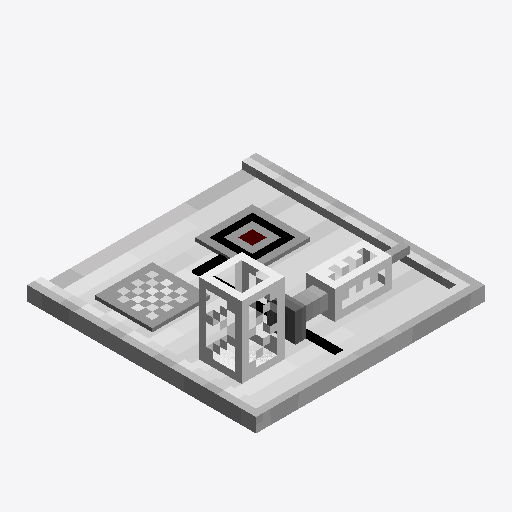
Isometric view (azimuth 45°, elevation 35.3°) of a Minecraft model made of 13 cuboids, textured from the same repository.
Parts seen in each view (by area): element 13, element 4, element 12, element 11, element 10, element 1, element 6, element 5, element 9, element 8.
Part boxes in pixels (left/top/right/bottom): element 13: left=27, top=169, right=484, bottom=432; element 4: left=199, top=252, right=284, bottom=383; element 12: left=27, top=277, right=269, bottom=424; element 11: left=256, top=277, right=484, bottom=416; element 10: left=242, top=153, right=469, bottom=288; element 1: left=195, top=204, right=309, bottom=271; element 6: left=306, top=240, right=391, bottom=321; element 5: left=95, top=262, right=209, bottom=331; element 9: left=267, top=294, right=305, bottom=344; element 8: left=292, top=285, right=327, bottom=321.
Bounding box in the file's own units: 16 × 5.5 × 16.